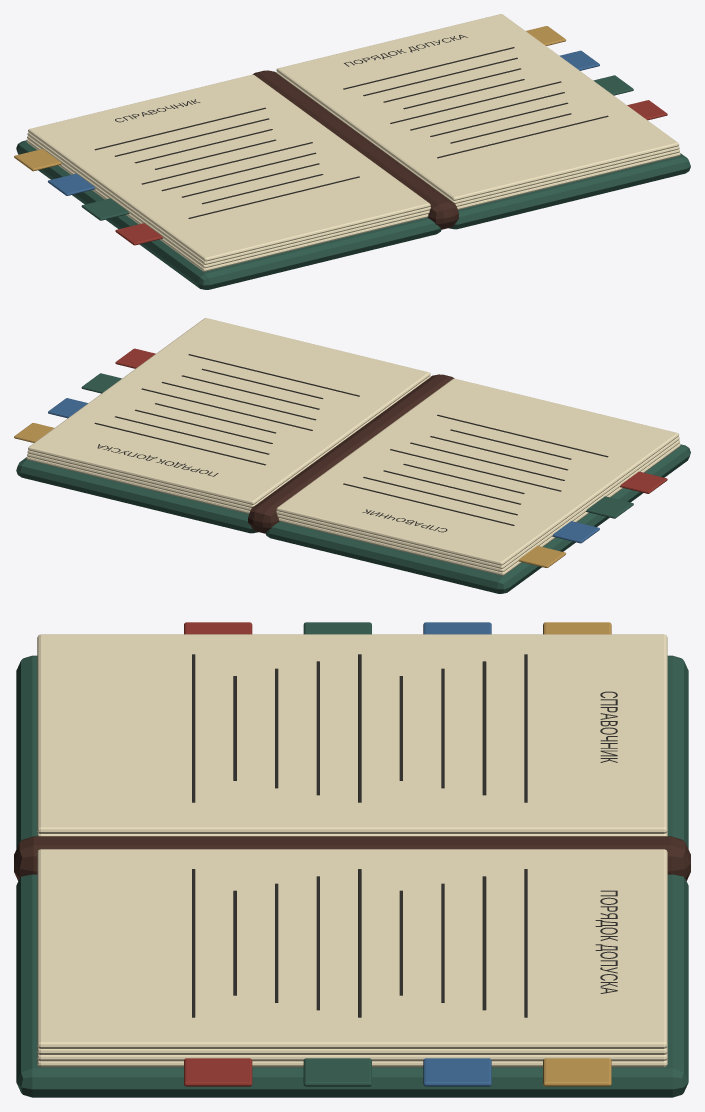
The model's file is TabbedReferenceBook.fbx.
3 renders of one model, top to bottom at view 1: azimuth 30°, elevation 25°; view 2: azimuth 150°, elevation 25°; view 3: azimuth 270°, elevation 25°, orthographic. The views are drawn at different scales.
Visible parts, largest first — view 1: Page block layer.003, Page block layer.007, Canvas hardcover, Canvas hardcover.001, Book spine, Page block layer.002, Page block layer.001, Page block layer, Page block layer.006, Page block layer.005, Page block layer.004, Index tab 4 (+7 smaller); view 2: Page block layer.003, Page block layer.007, Canvas hardcover, Canvas hardcover.001, Book spine, Page block layer.002, Page block layer.001, Page block layer.006, Page block layer, Page block layer.005, Page block layer.004, Index tab 3 (+7 smaller); view 3: Page block layer.003, Page block layer.007, Canvas hardcover.001, Book spine, Canvas hardcover, Page block layer.006, Page block layer.005, Page block layer.004, Index tab 1.001, Index tab 2.001, Index tab 3.001, Index tab 4.001 (+6 smaller).
Part boxes in pixels (bbox=[...]): Page block layer.003: bbox=[28, 74, 430, 261]; Page block layer.007: bbox=[276, 14, 679, 200]; Canvas hardcover: bbox=[16, 140, 441, 289]; Canvas hardcover.001: bbox=[448, 153, 690, 229]; Book spine: bbox=[252, 70, 458, 229]; Page block layer.002: bbox=[27, 132, 430, 264]; Page block layer.001: bbox=[27, 136, 429, 268]; Page block layer: bbox=[26, 139, 428, 271]; Page block layer.006: bbox=[276, 72, 679, 203]; Page block layer.005: bbox=[455, 149, 679, 206]; Page block layer.004: bbox=[457, 152, 680, 209]; Index tab 4: bbox=[115, 223, 162, 245]; Page block layer.003: bbox=[276, 378, 679, 565]; Page block layer.007: bbox=[28, 318, 430, 504]; Canvas hardcover: bbox=[265, 444, 690, 593]; Canvas hardcover.001: bbox=[16, 457, 258, 533]; Book spine: bbox=[248, 374, 454, 533]; Page block layer.002: bbox=[276, 436, 679, 568]; Page block layer.001: bbox=[277, 440, 679, 572]; Page block layer.006: bbox=[27, 376, 430, 507]; Page block layer: bbox=[278, 443, 680, 575]; Page block layer.005: bbox=[27, 453, 251, 510]; Page block layer.004: bbox=[26, 456, 249, 513]; Index tab 3: bbox=[586, 496, 633, 518]; Page block layer.003: bbox=[37, 634, 667, 833]; Page block layer.007: bbox=[37, 849, 667, 1048]; Canvas hardcover.001: bbox=[16, 874, 688, 1097]; Book spine: bbox=[14, 836, 690, 880]; Canvas hardcover: bbox=[16, 655, 688, 848]; Page block layer.006: bbox=[37, 1046, 667, 1054]; Page block layer.005: bbox=[37, 1052, 667, 1061]; Page block layer.004: bbox=[37, 1058, 667, 1067]; Index tab 1.001: bbox=[543, 1058, 611, 1086]; Index tab 2.001: bbox=[423, 1058, 491, 1086]; Index tab 3.001: bbox=[303, 1058, 371, 1086]; Index tab 4.001: bbox=[184, 1058, 252, 1086].
Size of the model in its own units: 0.447 by 0.0255 by 0.277.
